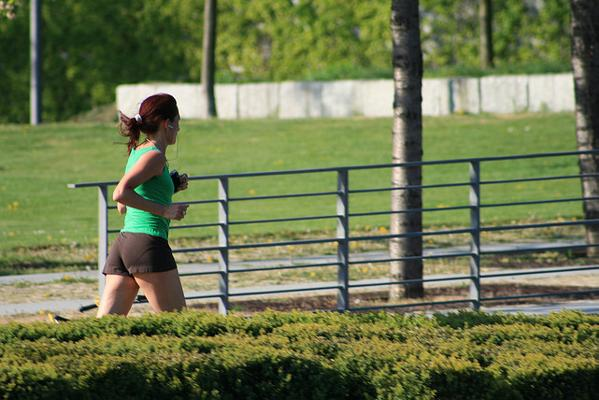person: (96, 93, 192, 321)
